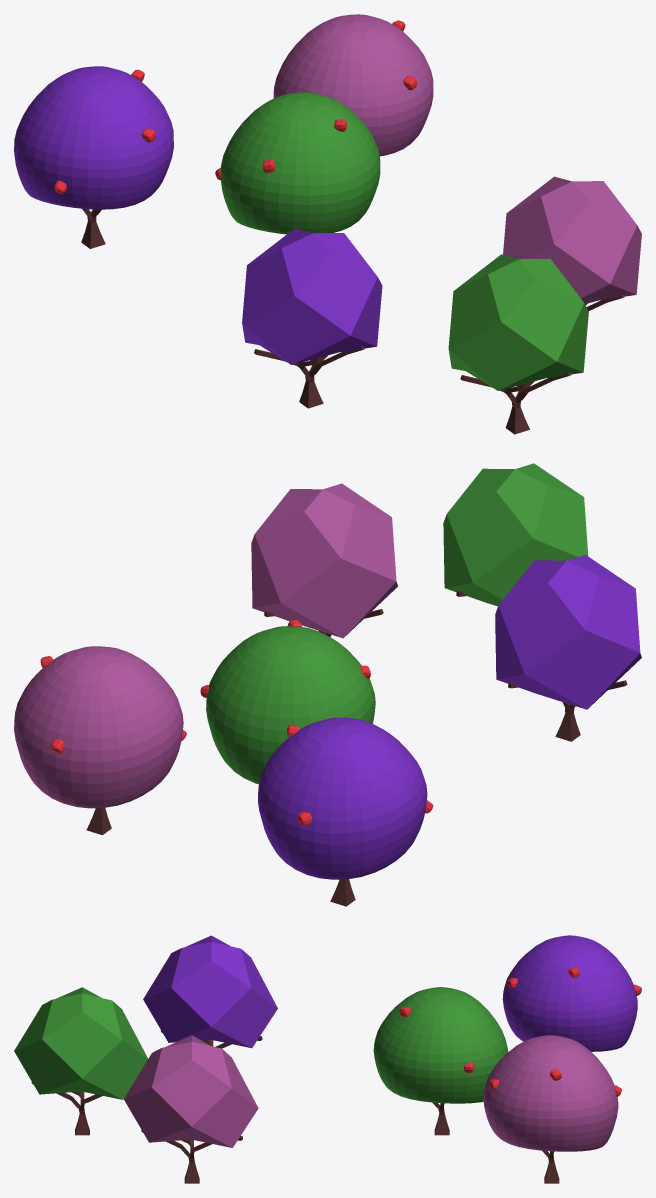
File: Carvalho.fbx
3 renders of one model, top to bottom at view 1: azimuth 30°, elevation 25°; view 2: azimuth 150°, elevation 25°; view 3: azimuth 270°, elevation 25°, orthographic. The views are drawn at different scales.
Visible parts, largest first — view 1: Cylinder.002, Cylinder, Cylinder.005, Cylinder.003, Cylinder.001, Cylinder.004, Plane.005, Plane.003, Plane.002; view 2: Cylinder.002, Cylinder.001, Cylinder.005, Cylinder.004, Cylinder, Cylinder.003, Plane.005; view 3: Cylinder.001, Cylinder, Cylinder.002, Cylinder.004, Cylinder.003, Cylinder.005, Plane.004, Plane.003.
Boxes of the visible parts, <box> form: Cylinder.002: <box>14,66,173,209</box>; Cylinder: <box>220,92,380,234</box>; Cylinder.005: <box>242,228,382,364</box>; Cylinder.003: <box>448,254,588,390</box>; Cylinder.001: <box>273,14,433,156</box>; Cylinder.004: <box>503,176,641,303</box>; Plane.005: <box>254,346,364,408</box>; Plane.003: <box>460,372,571,434</box>; Plane.002: <box>81,208,105,248</box>; Cylinder.002: <box>258,717,427,879</box>; Cylinder.001: <box>14,646,183,808</box>; Cylinder.005: <box>495,555,641,709</box>; Cylinder.004: <box>251,483,397,638</box>; Cylinder: <box>206,626,375,784</box>; Cylinder.003: <box>443,463,588,606</box>; Plane.005: <box>508,680,627,741</box>; Cylinder.001: <box>483,1035,618,1151</box>; Cylinder: <box>373,987,508,1103</box>; Cylinder.002: <box>502,935,637,1051</box>; Cylinder.004: <box>124,1035,258,1147</box>; Cylinder.003: <box>14,987,147,1099</box>; Cylinder.005: <box>143,935,277,1048</box>; Plane.004: <box>141,1130,242,1183</box>; Plane.003: <box>31,1082,102,1135</box>.
Bounding box in the file's own units: 638 × 267 × 1082.
